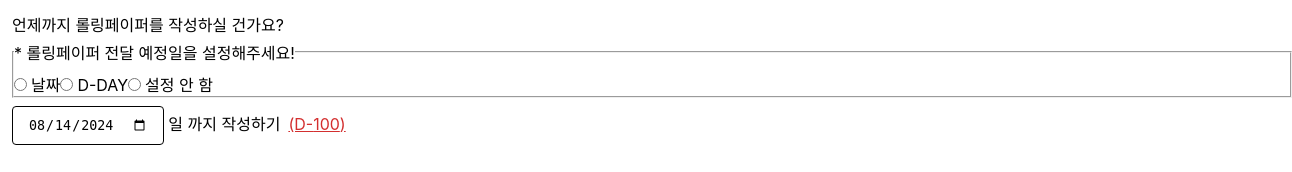
Test: DueDate › '설정 안 함'을 선택하면 아무런 input을 렌더링하지 않는다.
Click the text "설정 안 함". click: (171, 85)
box: [128,75,213,95]
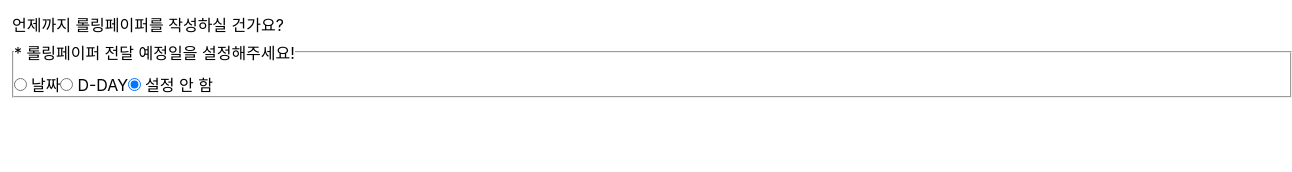
Result: the text showing "100" is gone
